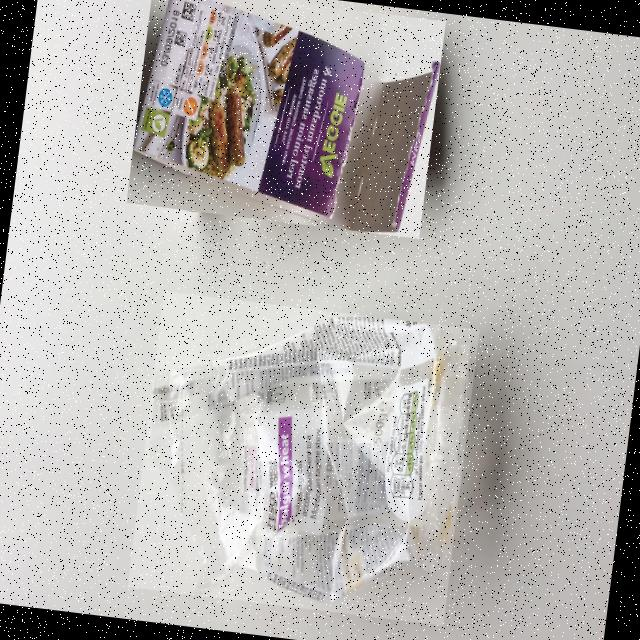Other carton: (132, 0, 440, 232)
Plastic film: (149, 317, 471, 604)
